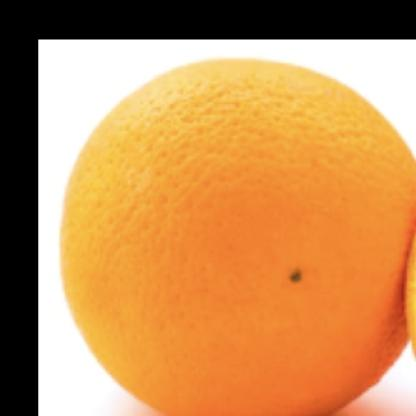fresh: (63, 57, 416, 416)
